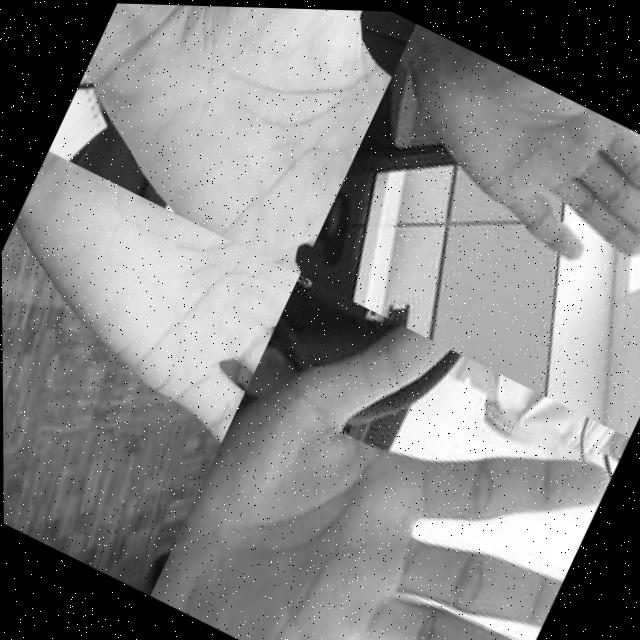hand: (146, 269, 630, 640), (63, 1, 417, 276), (1, 149, 299, 455), (374, 31, 640, 301)
